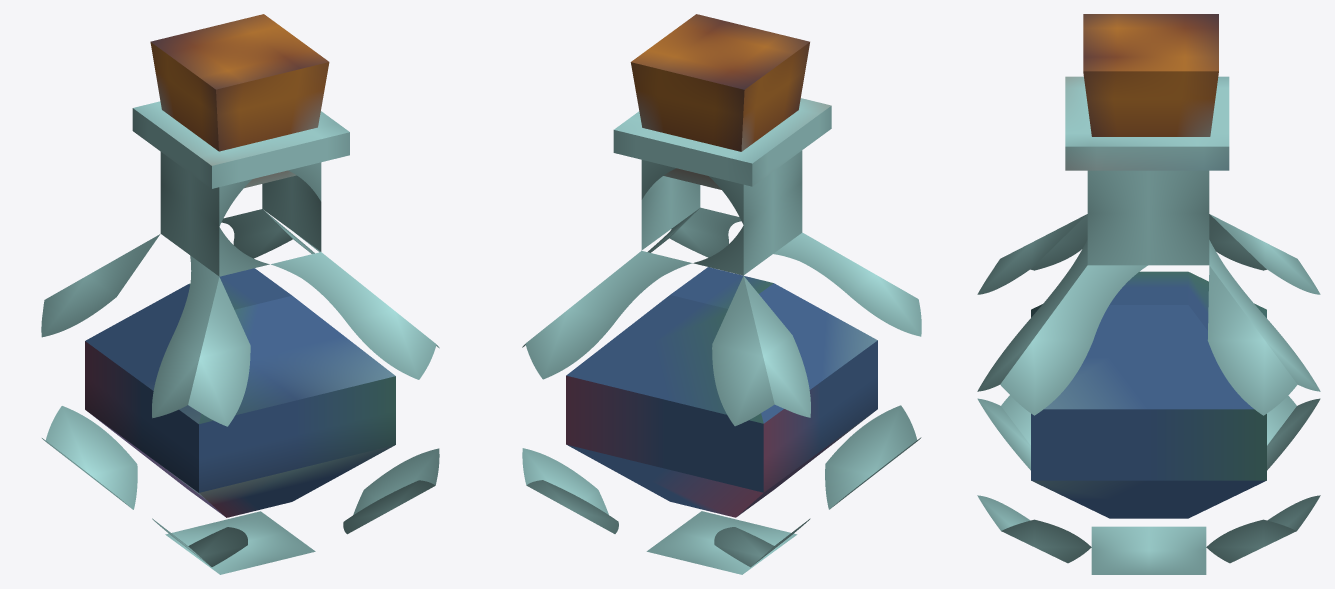
The model's file is BluePotion.fbx.
3 views of the same model, side by side, from view 1: azimuth 30°, elevation 25°; view 2: azimuth 150°, elevation 25°; view 3: azimuth 270°, elevation 25° (orthographic). The views are drawn at different scales.
Visible parts, largest first — view 1: Bottle, Potion; view 2: Bottle, Potion; view 3: Bottle, Potion.
Part boxes in pixels (x1,y1,x2,y2): Bottle: [41, 14, 439, 574]; Potion: [85, 268, 395, 517]; Bottle: [522, 14, 921, 574]; Potion: [566, 267, 877, 517]; Bottle: [977, 14, 1320, 574]; Potion: [1031, 271, 1266, 518].
Bounding box in the file's own units: 0.1875 × 0.1875 × 0.3061.
